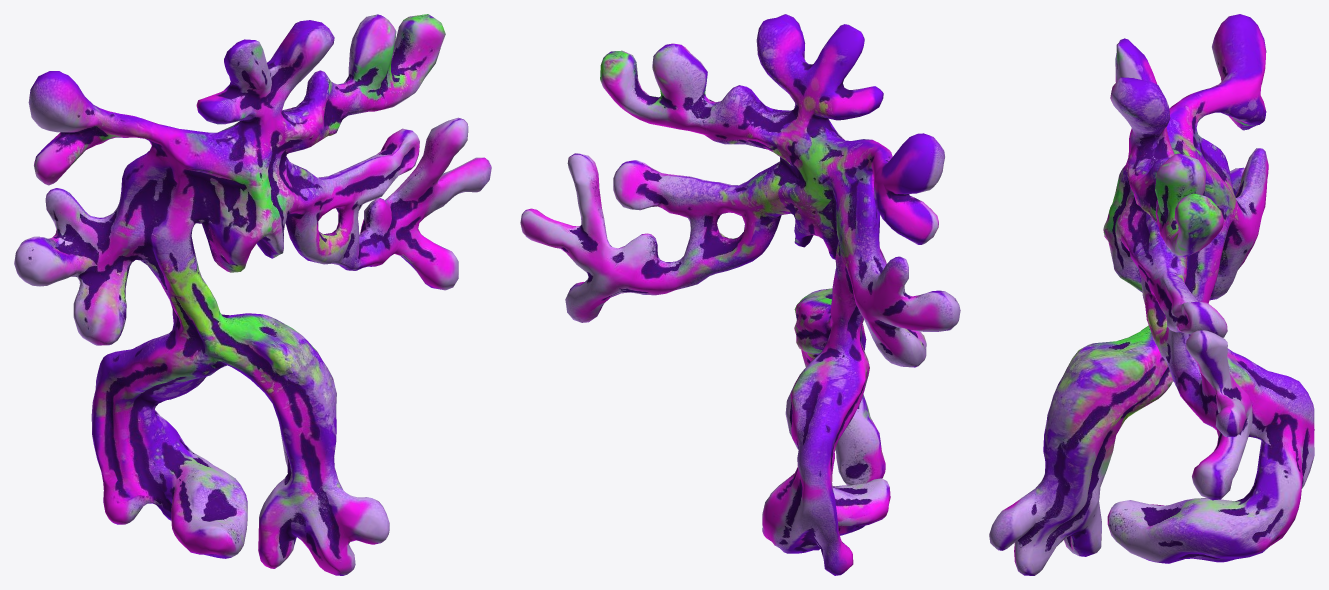
Rendered from shr-waterfall-tree-1.glb.
3 views of the same model, side by side, from view 1: azimuth 30°, elevation 25°; view 2: azimuth 150°, elevation 25°; view 3: azimuth 270°, elevation 25° (orthographic). The views are drawn at different scales.
Parts seen in each view (by area): view 1: geometry_0; view 2: geometry_0; view 3: geometry_0.
Boxes of the visible parts, x1,y1,x2,y2 form: geometry_0: (14,14,491,575); geometry_0: (520,14,960,575); geometry_0: (989,14,1314,575).
Size of the model in its own units: 0.9383 by 1 by 0.5637.
1 material, 1 textured.
